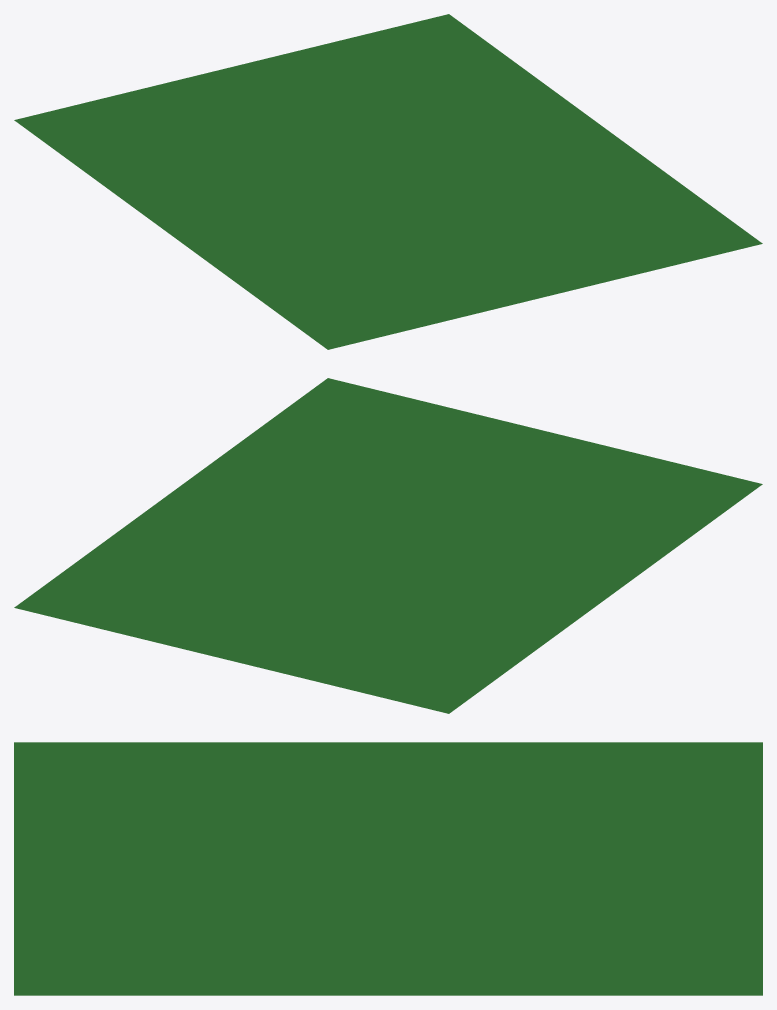
File: CroquetGrass.fbx
3 views of the same model, one above another, from view 1: azimuth 30°, elevation 25°; view 2: azimuth 150°, elevation 25°; view 3: azimuth 270°, elevation 25° (orthographic). The views are drawn at different scales.
Parts seen in each view (by area): view 1: Floor; view 2: Floor; view 3: Floor.
Boxes of the visible parts, box(x1,y1,x2,y2) form: Floor: box(14, 14, 762, 349); Floor: box(14, 378, 762, 713); Floor: box(14, 742, 762, 995).
Bounding box in the file's own units: 840 × 0 × 1050.
